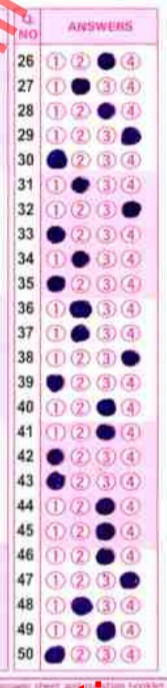filled circles: (71, 596, 92, 615), (96, 621, 115, 641), (47, 149, 67, 168), (95, 497, 115, 515), (70, 300, 91, 317), (45, 645, 64, 663), (46, 471, 65, 489), (96, 522, 115, 540), (47, 226, 66, 244), (71, 325, 90, 343), (121, 127, 141, 144), (96, 398, 115, 415), (120, 571, 139, 588), (96, 424, 116, 440), (97, 102, 115, 119), (97, 52, 115, 69), (71, 176, 89, 193), (71, 250, 89, 267), (71, 78, 90, 94), (122, 201, 141, 217), (46, 374, 63, 391), (96, 548, 114, 564), (47, 275, 65, 291), (121, 350, 139, 366), (47, 448, 63, 465)
